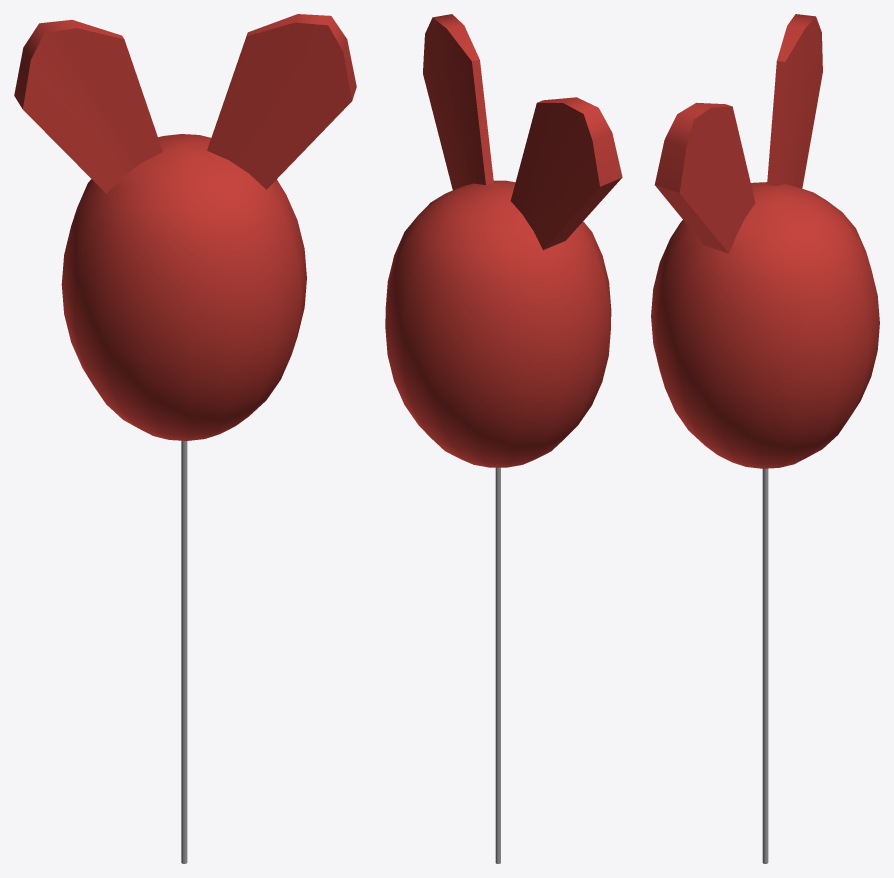
The model's file is Baloon_1.fbx.
The picture shows the model from 3 angles, left to right: view 1: azimuth 30°, elevation 25°; view 2: azimuth 150°, elevation 25°; view 3: azimuth 270°, elevation 25°; orthographic projection. The views are drawn at different scales.
Visible parts, largest first — view 1: pSphere4; view 2: pSphere4; view 3: pSphere4.
Boxes of the visible parts, x1,y1,x2,y2 form: pSphere4: (14,14,356,863); pSphere4: (385,14,622,863); pSphere4: (651,14,879,863).
Bounding box in the file's own units: 0.413 × 1.22 × 0.3203.
